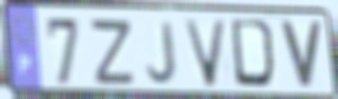7: (44, 15, 83, 88)
D: (228, 17, 281, 92)
J: (144, 20, 178, 86)
V: (181, 18, 230, 90), (277, 19, 325, 92)
Z: (90, 18, 137, 87)
